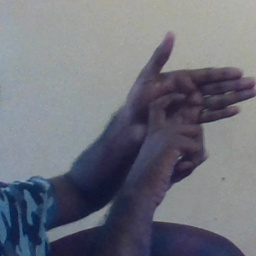R: (115, 30, 256, 185)
